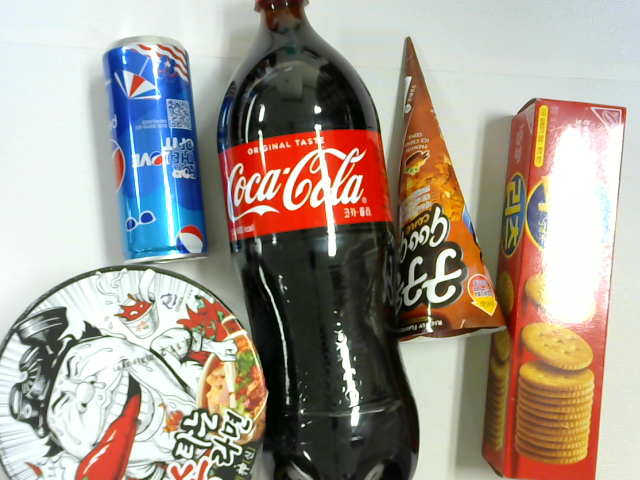Coca_Cola_1.5L: (216, 1, 421, 480)
GooGoo_Cone_CVS: (390, 37, 507, 352)
HeJangsock: (1, 273, 270, 480)
Pepsi_Cola_Can_250ml: (101, 33, 210, 269)
Ritz_Cracker: (481, 96, 629, 480)
